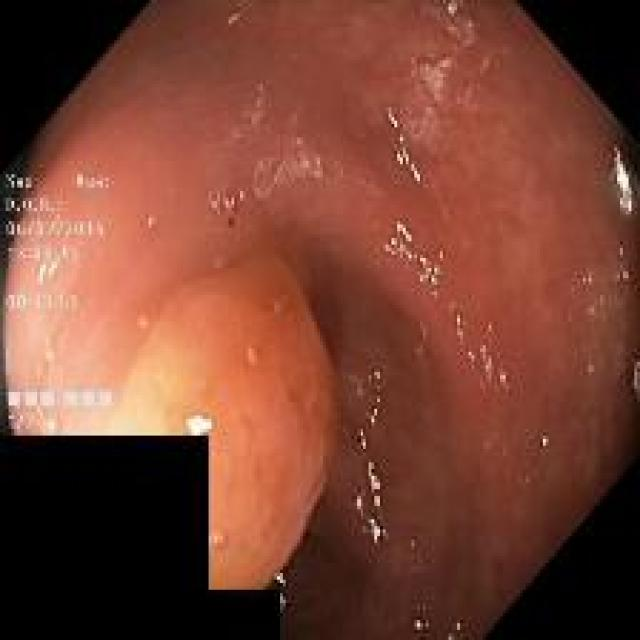Polyps: (110, 259, 338, 591)
